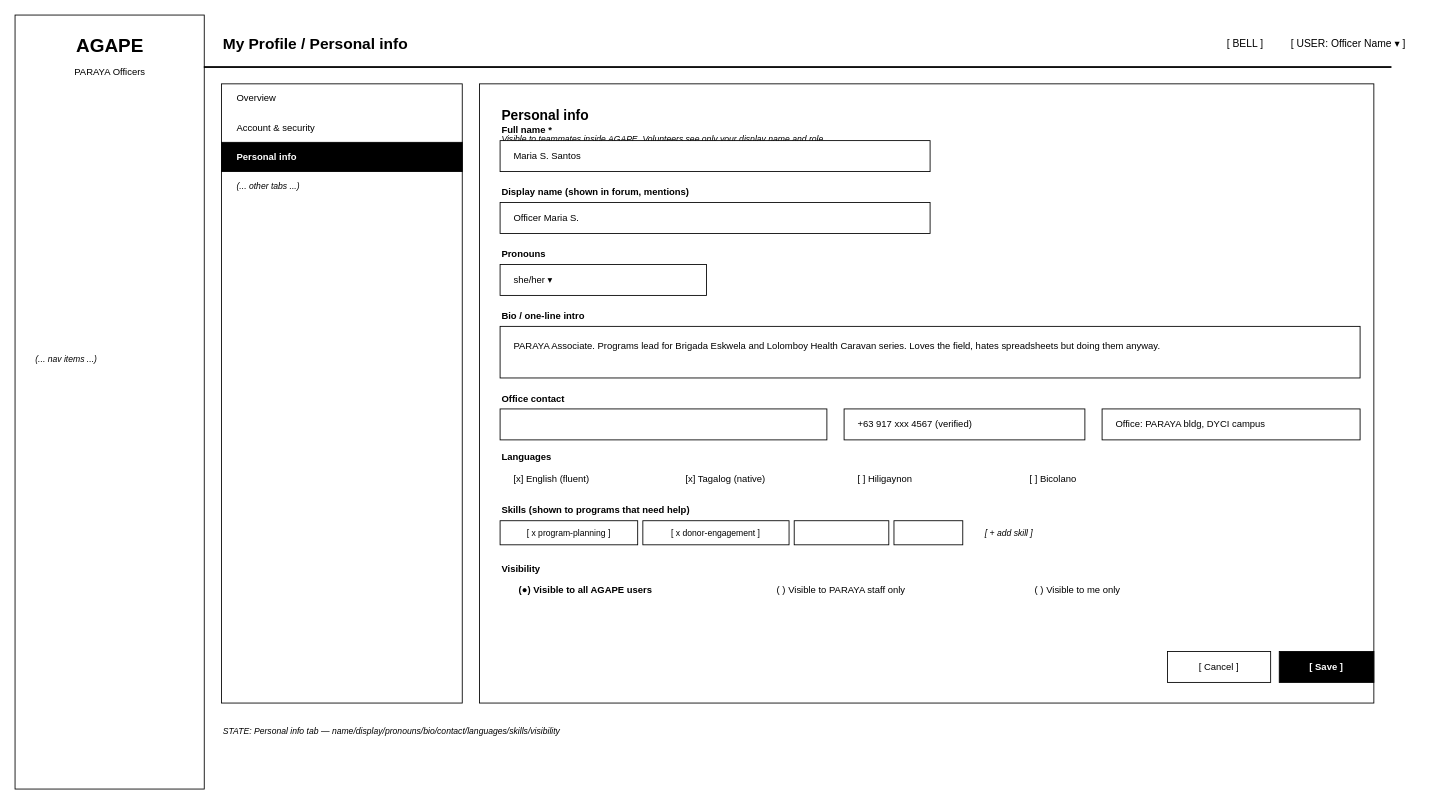
This 1441x804 diagram has some shape labels left out. The shapes that lost their labels are listed below. From the top down, each one's box as (x1, y1, x2, y2) in pixels, then its label:
(499, 408, 827, 440): maria.santos@dyci.edu.ph
(793, 520, 889, 545): [ x first-aid ]
(893, 520, 963, 545): [ x M&E ]
